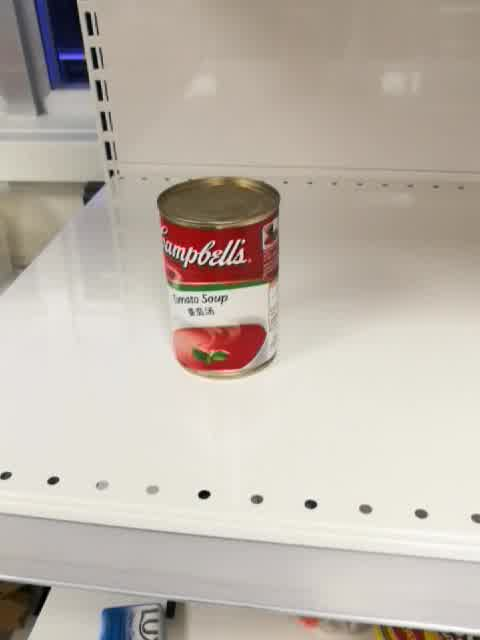tomatosoup: (156, 176, 281, 380)
